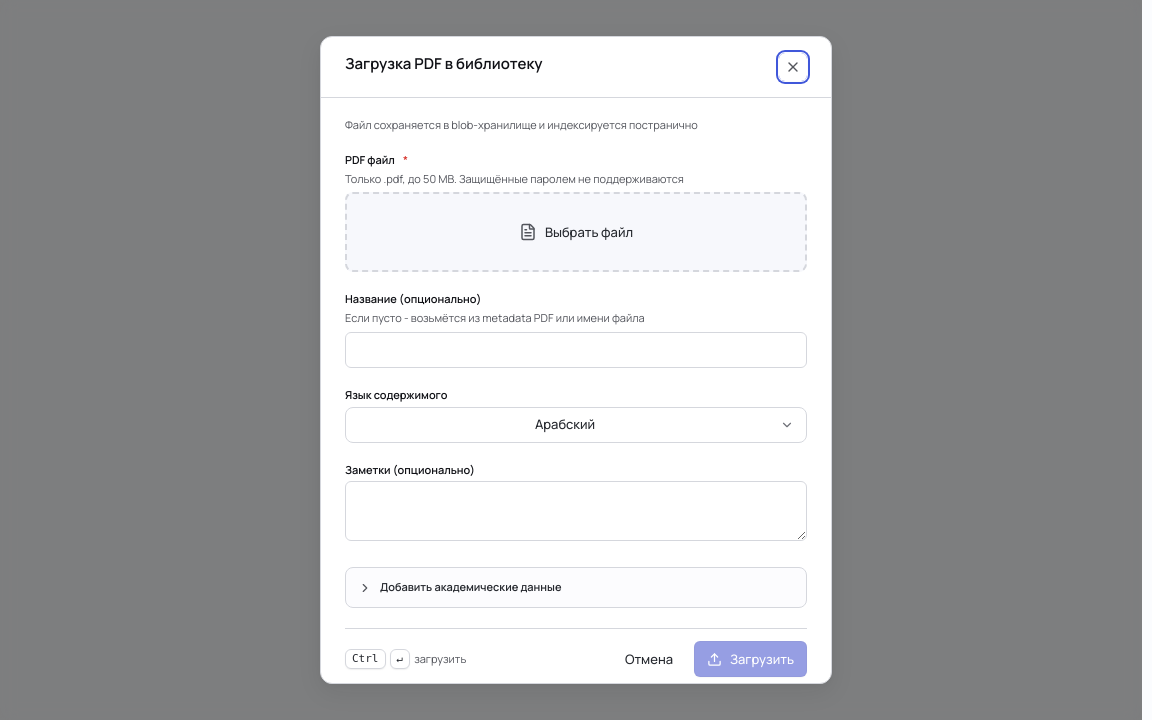
Test case: FileUploadModal › toggle раскрывает academic секцию с 6 полями
What coordinates should you click on to do the following:
click the button "Добавить академические данные"
I would click on:
 (471, 587)
Its box is [358,580,794,595].
(page scrolled)
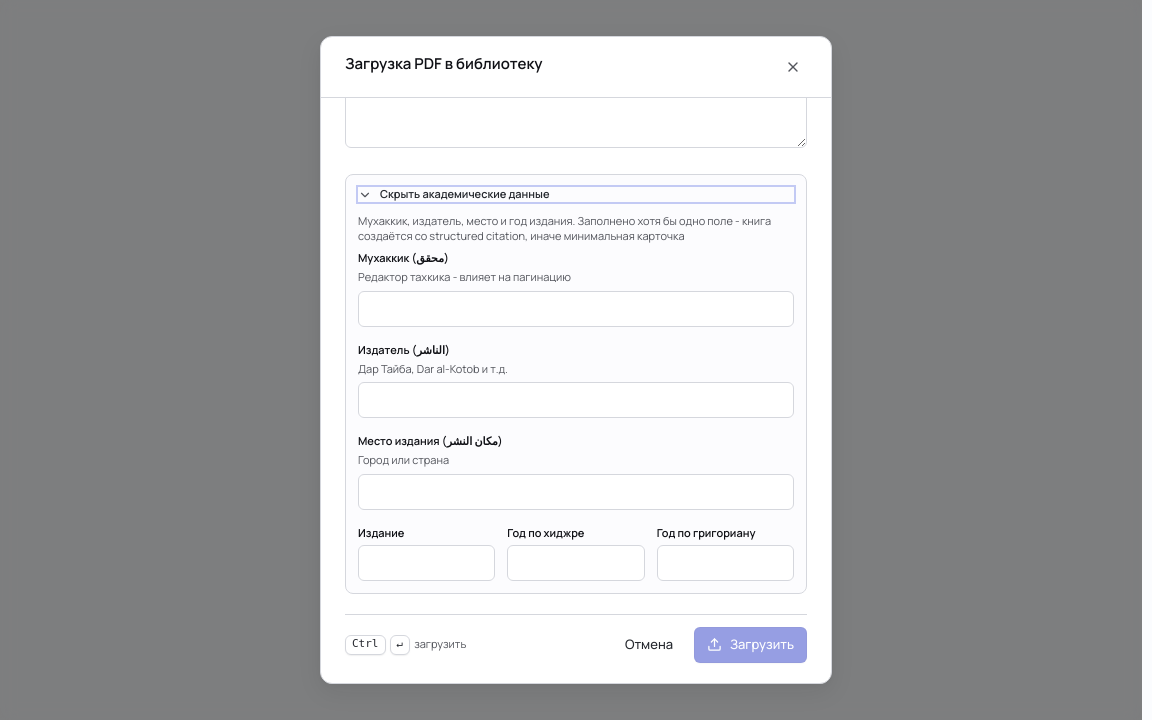
Check: the button "Скрыть академические данные" is expanded, box [358,187,794,202]
